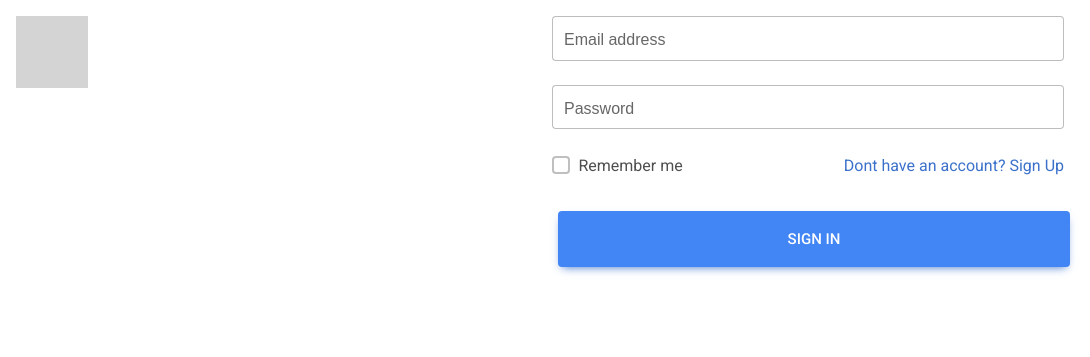
Scenario: Login component › switches to sign up form when "Sign Up" link is clicked
Click the link "Dont have an account? Sign Up". click: (954, 167)
box: [844,153,1064,181]
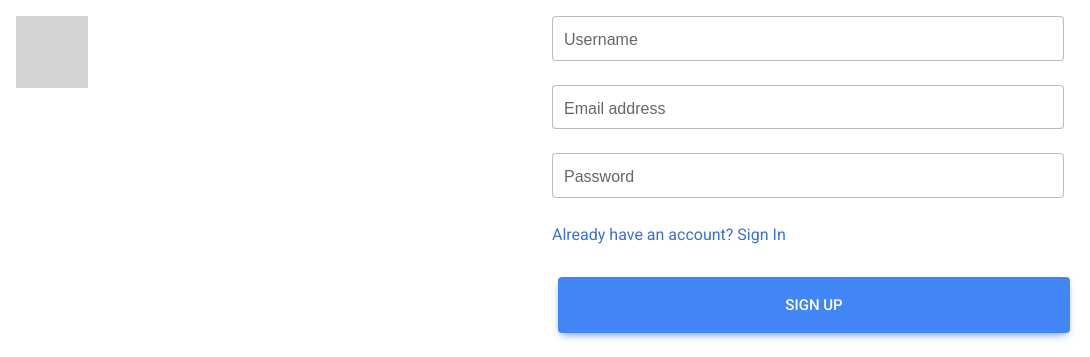
Now the button "SIGN UP" is shown, box [558,277,1070,334]
Now the link "Already have an account? Sign In" is shown, box [552,222,786,247]
